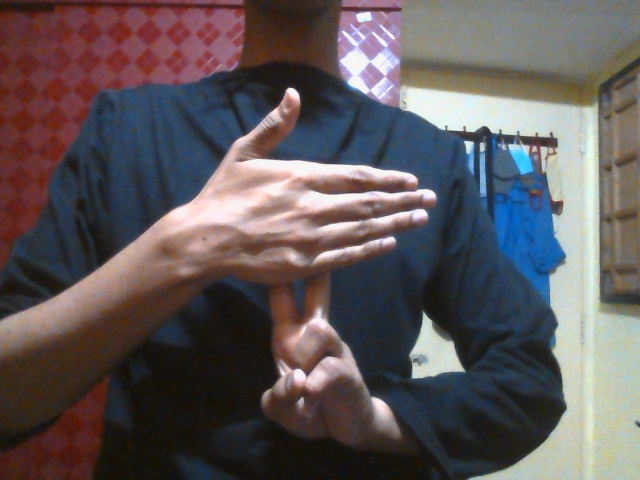N: (207, 86, 436, 454)
